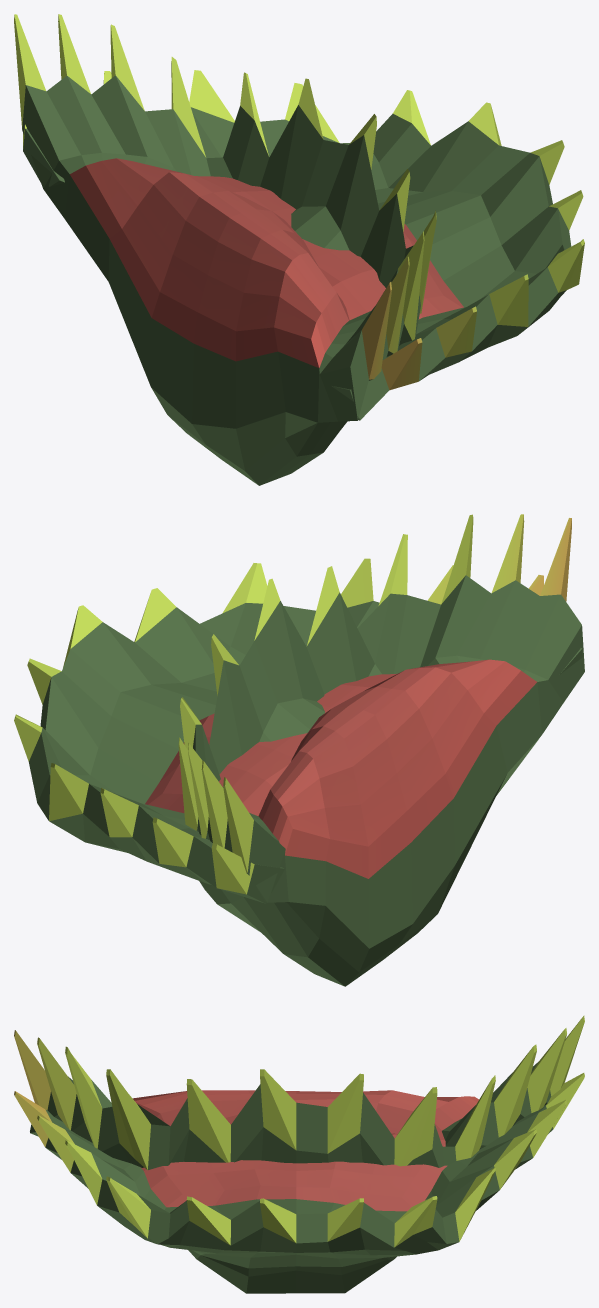
The model's file is Flytrap.fbx.
3 views of the same model, one above another, from view 1: azimuth 30°, elevation 25°; view 2: azimuth 150°, elevation 25°; view 3: azimuth 270°, elevation 25° (orthographic). The views are drawn at different scales.
Visible parts, largest first — view 1: Flytrap_R, Flytrap_R.001; view 2: Flytrap_R, Flytrap_R.001; view 3: Flytrap_R, Flytrap_R.001.
Part boxes in pixels (x1=…): Flytrap_R: x1=14, y1=14, x2=436, y2=485; Flytrap_R.001: x1=23, y1=70, x2=584, y2=420; Flytrap_R: x1=178, y1=514, x2=584, y2=986; Flytrap_R.001: x1=14, y1=558, x2=582, y2=903; Flytrap_R: x1=14, y1=1015, x2=584, y2=1293; Flytrap_R.001: x1=14, y1=1073, x2=584, y2=1268.
Size of the model in its own units: 123 by 108 by 215.
